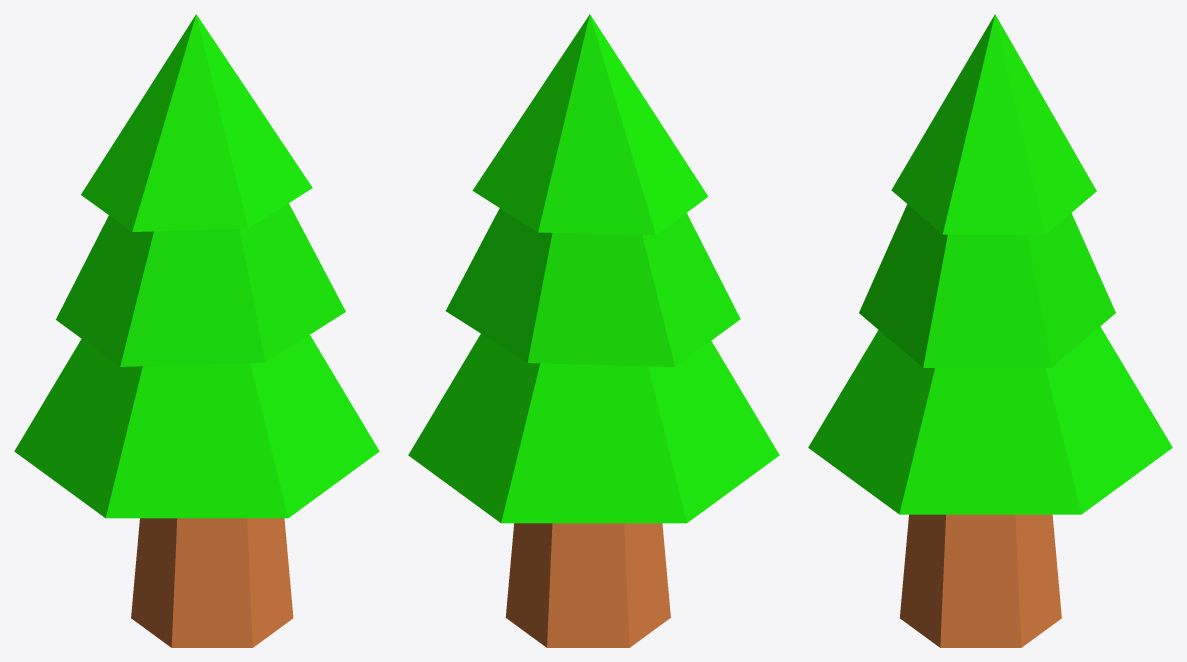
File: tree.gltf
3 renders of one model, left to right at view 1: azimuth 30°, elevation 25°; view 2: azimuth 150°, elevation 25°; view 3: azimuth 270°, elevation 25°, orthographic.
Visible parts, largest first — view 1: Tree; view 2: Tree; view 3: Tree.
Boxes of the visible parts, x1,y1,x2,y2 form: Tree: (14, 14, 379, 647); Tree: (408, 14, 779, 647); Tree: (808, 14, 1172, 647).
Bounding box in the file's own units: 2.96 × 6.21 × 3.42.
